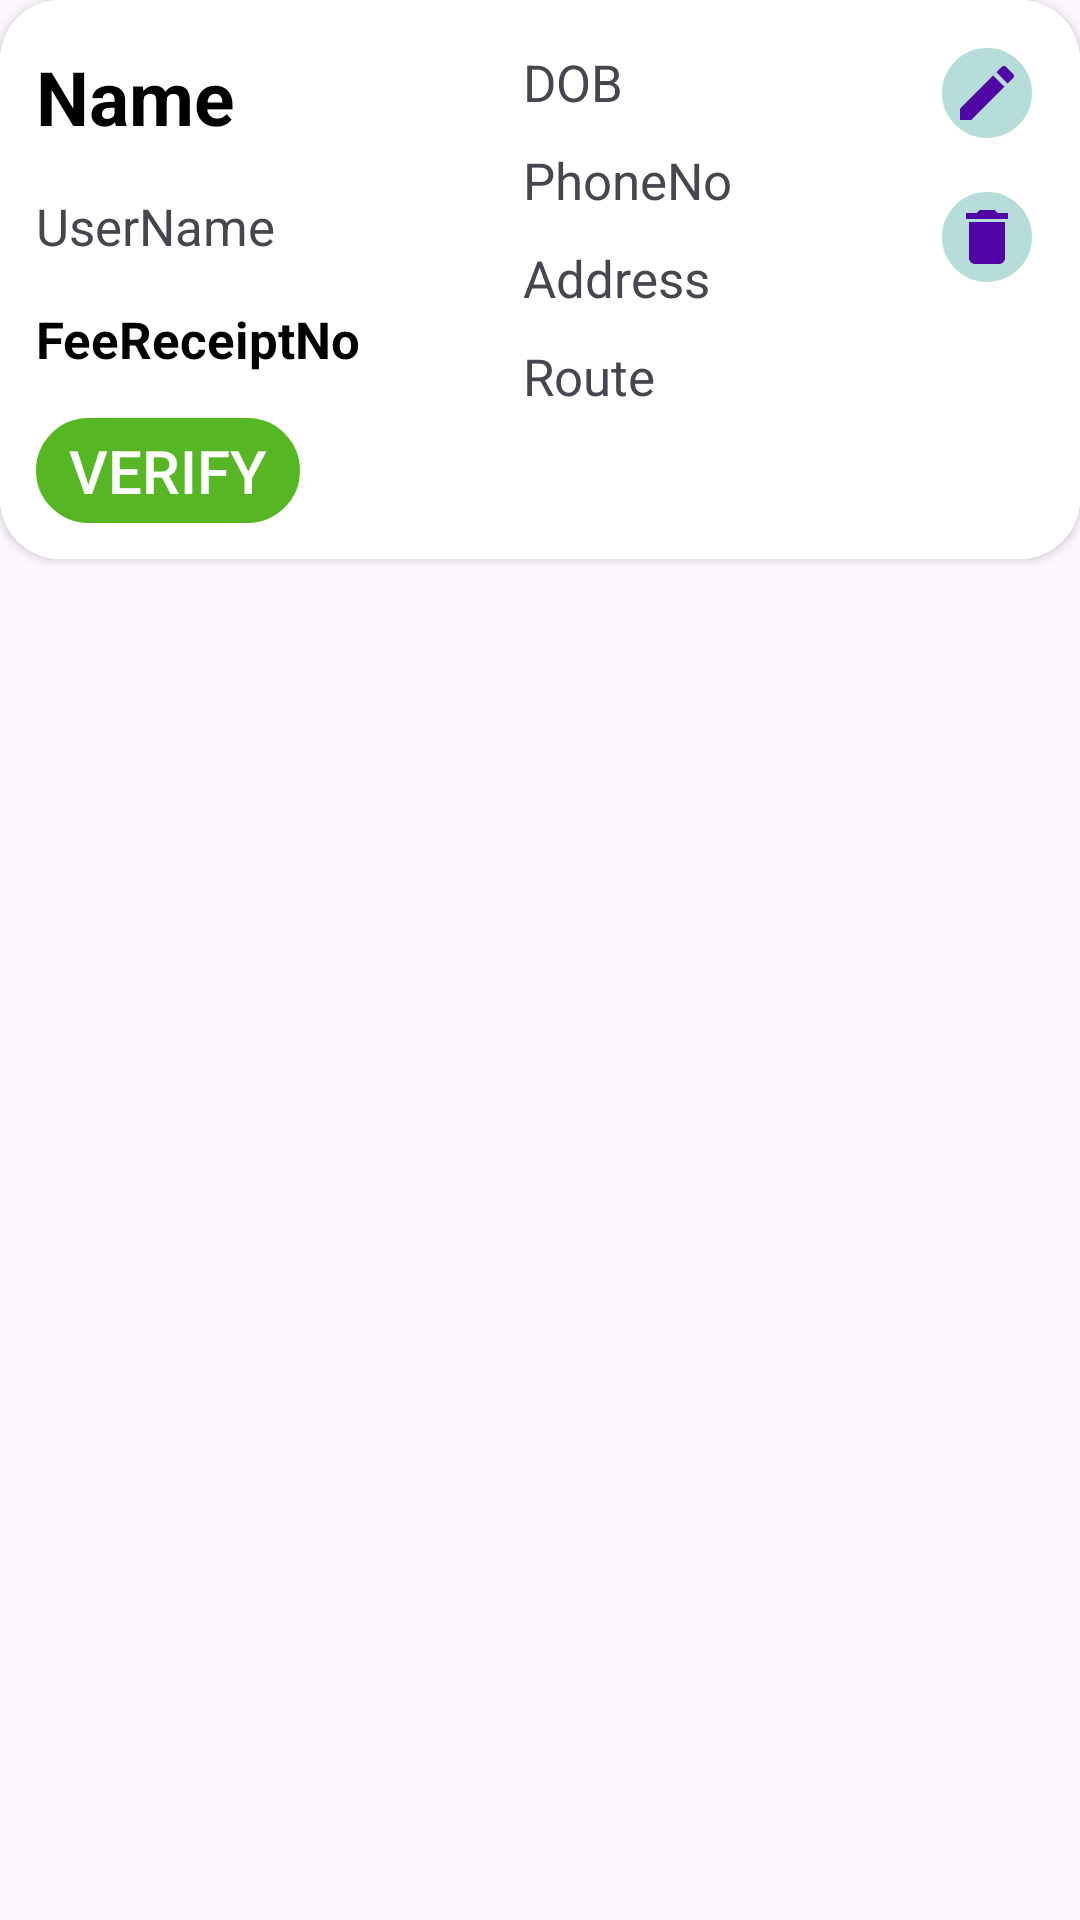

Screen size 1080 × 1920. Icon name, then its box in pixels as (x1, y1, x2, y2):
delete: (942, 192, 1032, 282)
edit: (942, 48, 1032, 138)
